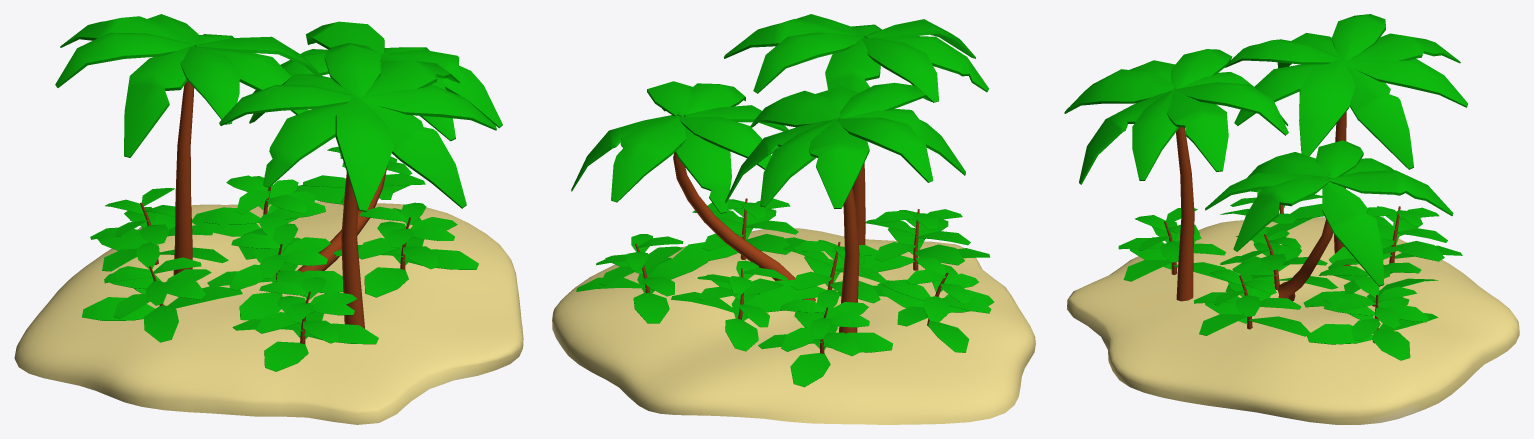
File: Island_small_01.fbx
The picture shows the model from 3 angles, left to right: view 1: azimuth 30°, elevation 25°; view 2: azimuth 150°, elevation 25°; view 3: azimuth 270°, elevation 25°; orthographic projection. The views are drawn at different scales.
Visible parts, largest first — view 1: Island_small_01; view 2: Island_small_01; view 3: Island_small_01.
Boxes of the visible parts, box(x1,y1,x2,y2) form: Island_small_01: box(14, 14, 523, 424); Island_small_01: box(552, 14, 1035, 424); Island_small_01: box(1064, 14, 1519, 424).
Size of the model in its own units: 2506 by 1512 by 2399.
